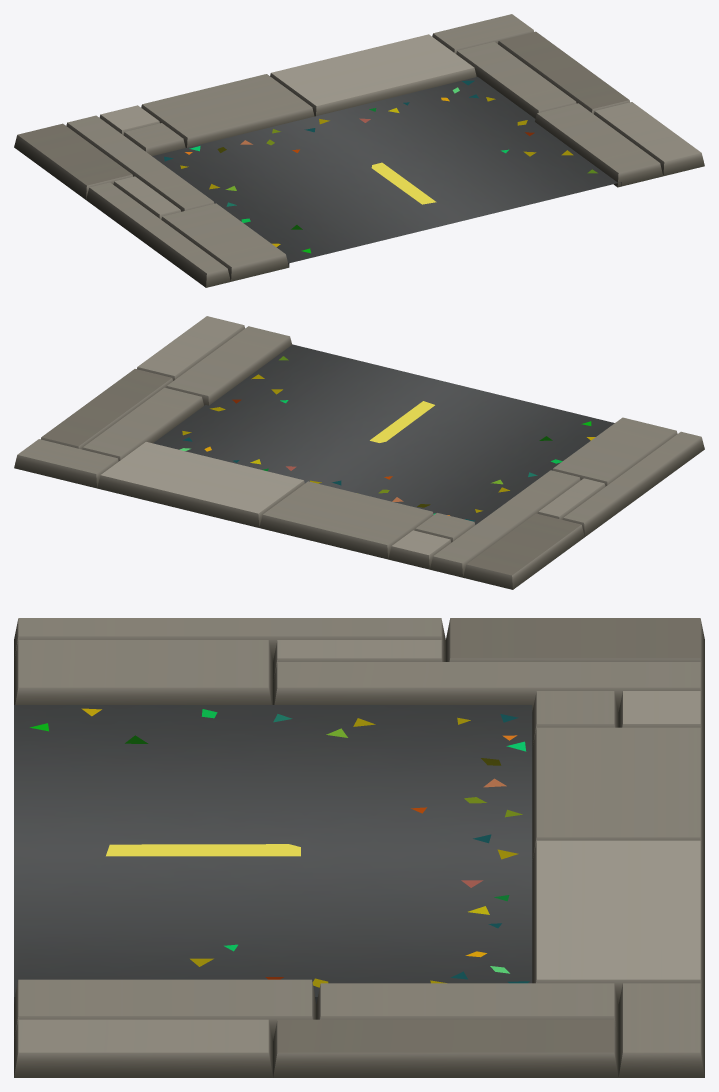
File: Country_Road_1G.fbx
The picture shows the model from 3 angles, top to bottom: view 1: azimuth 30°, elevation 25°; view 2: azimuth 150°, elevation 25°; view 3: azimuth 270°, elevation 25°; orthographic projection. The views are drawn at different scales.
Visible parts, largest first — view 1: Country_Road_1G, Country_Road_1G_Leaves; view 2: Country_Road_1G, Country_Road_1G_Leaves; view 3: Country_Road_1G, Country_Road_1G_Leaves.
Boxes of the visible parts, x1=… form: Country_Road_1G: x1=14, y1=14, x2=704, y2=287; Country_Road_1G_Leaves: x1=164, y1=80, x2=597, y2=253; Country_Road_1G: x1=14, y1=316, x2=704, y2=589; Country_Road_1G_Leaves: x1=179, y1=356, x2=595, y2=521; Country_Road_1G: x1=14, y1=618, x2=704, y2=1077; Country_Road_1G_Leaves: x1=30, y1=708, x2=529, y2=987.
Bounding box in the file's own units: 1200 × 30 × 800.
